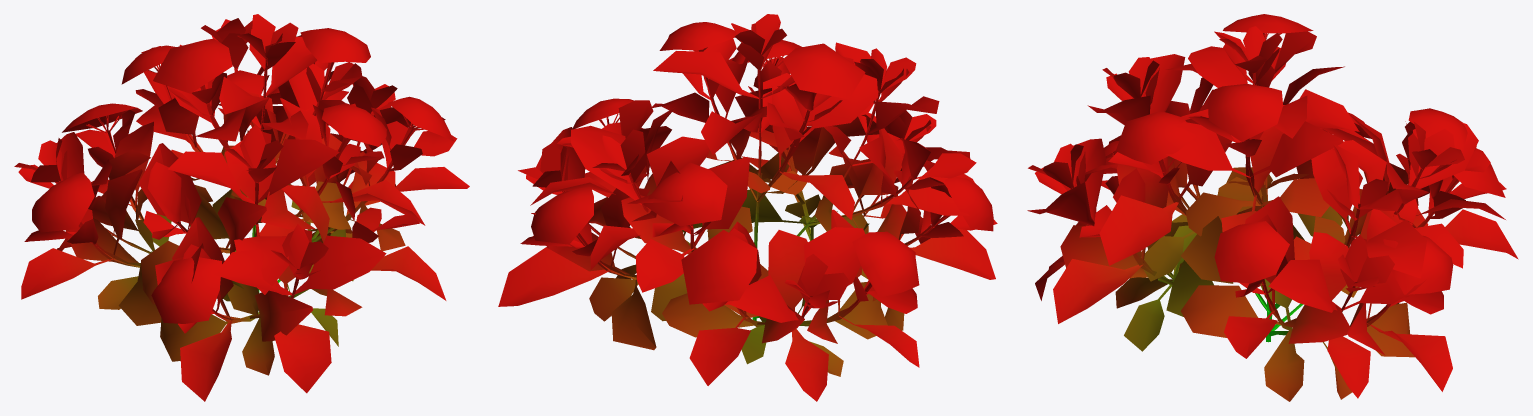
Rendered from Var1_LOD4.fbx.
The picture shows the model from 3 angles, left to right: view 1: azimuth 30°, elevation 25°; view 2: azimuth 150°, elevation 25°; view 3: azimuth 270°, elevation 25°; orthographic projection. The views are drawn at different scales.
Visible parts, largest first — view 1: _3mb8_Var1_LOD4; view 2: _3mb8_Var1_LOD4; view 3: _3mb8_Var1_LOD4.
Part boxes in pixels (left/top/right/bottom): _3mb8_Var1_LOD4: left=14, top=14, right=469, bottom=401; _3mb8_Var1_LOD4: left=498, top=14, right=997, bottom=401; _3mb8_Var1_LOD4: left=1027, top=14, right=1518, bottom=401.
Size of the model in its own units: 104 by 72.68 by 105.
